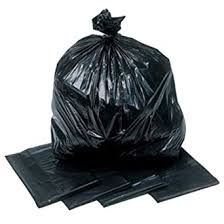Trash: (33, 6, 200, 167)
